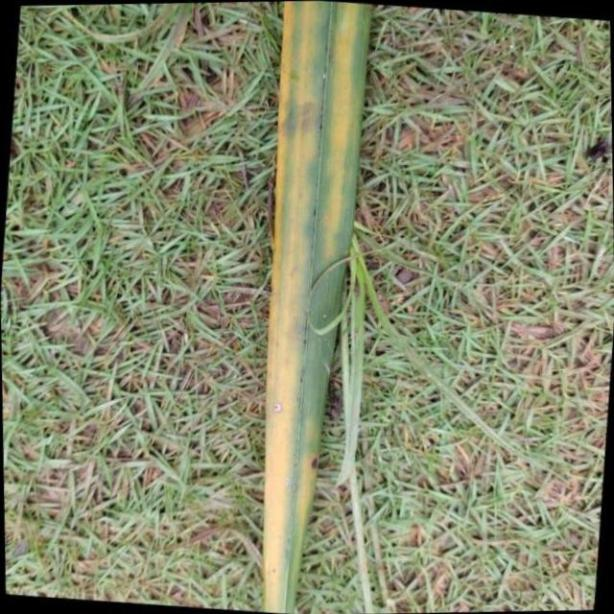Megnesium: (256, 5, 371, 614)
